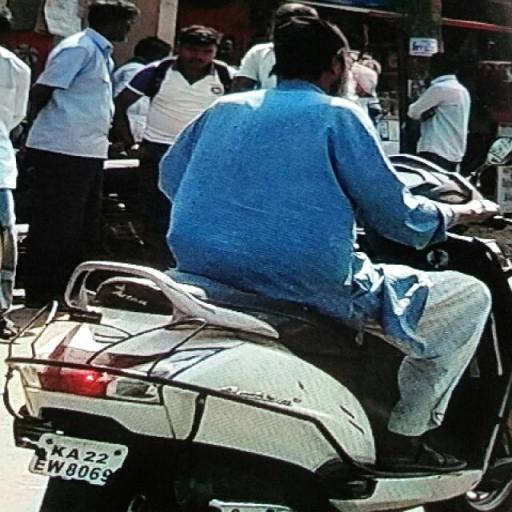bike: (3, 11, 512, 512)
numberplate: (29, 427, 130, 490)
withouthelmet: (272, 18, 348, 88)
